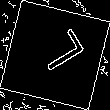L_SW: (25, 29, 85, 81)
